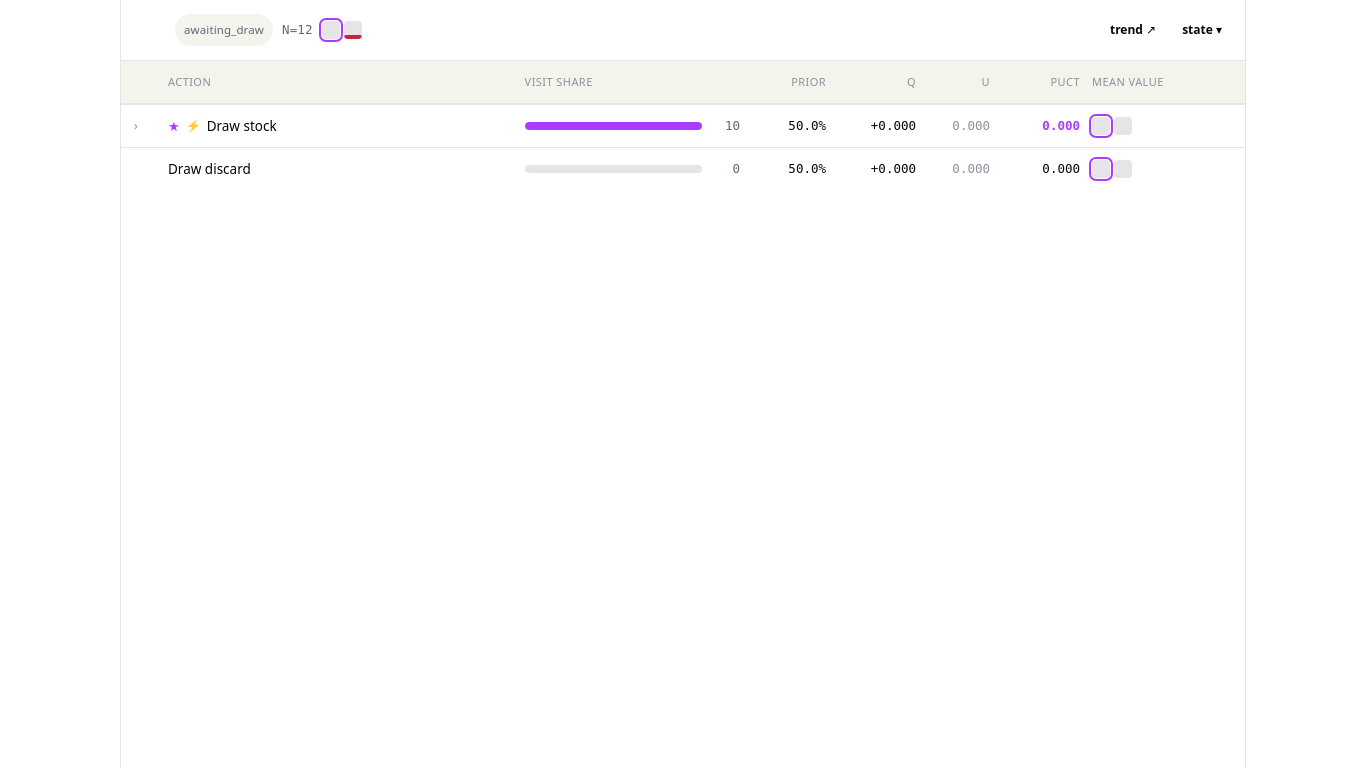
Scenario: NodeBlock / edge row expand-collapse › reveals the chance child on the first click and hides it again on the second (happy path — the reported bug)
The image size is (1366, 768).
Check: the text "✲ chance — unresolved reveal" is not shown
Click the button "› ★ ⚡ Draw stock 10 50.0% +0.000 0.000 0.000" at (683, 126), box [121,104,1245,147]
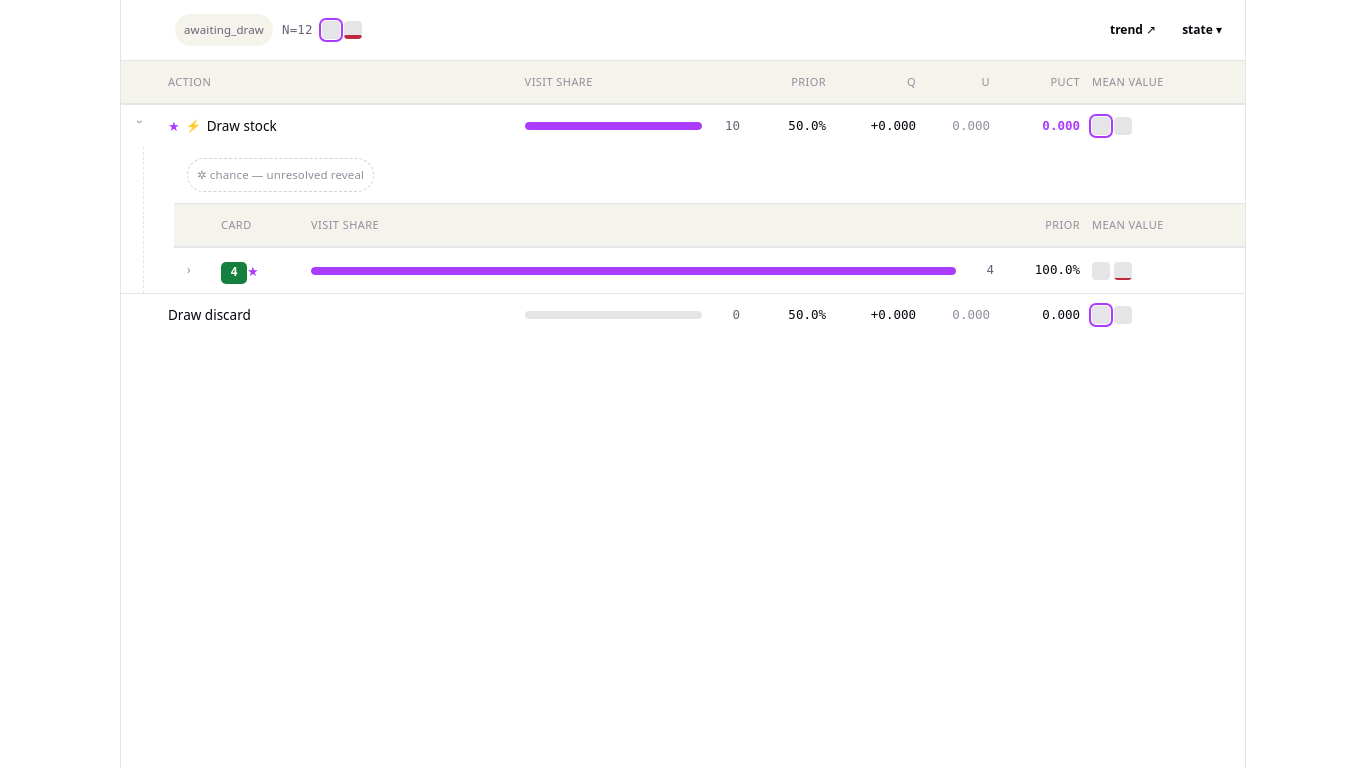
Check: the text "✲ chance — unresolved reveal" is shown, box [187,158,374,192]
Click the button "› ★ ⚡ Draw stock 10 50.0% +0.000 0.000 0.000" at (683, 126), box [121,104,1245,147]
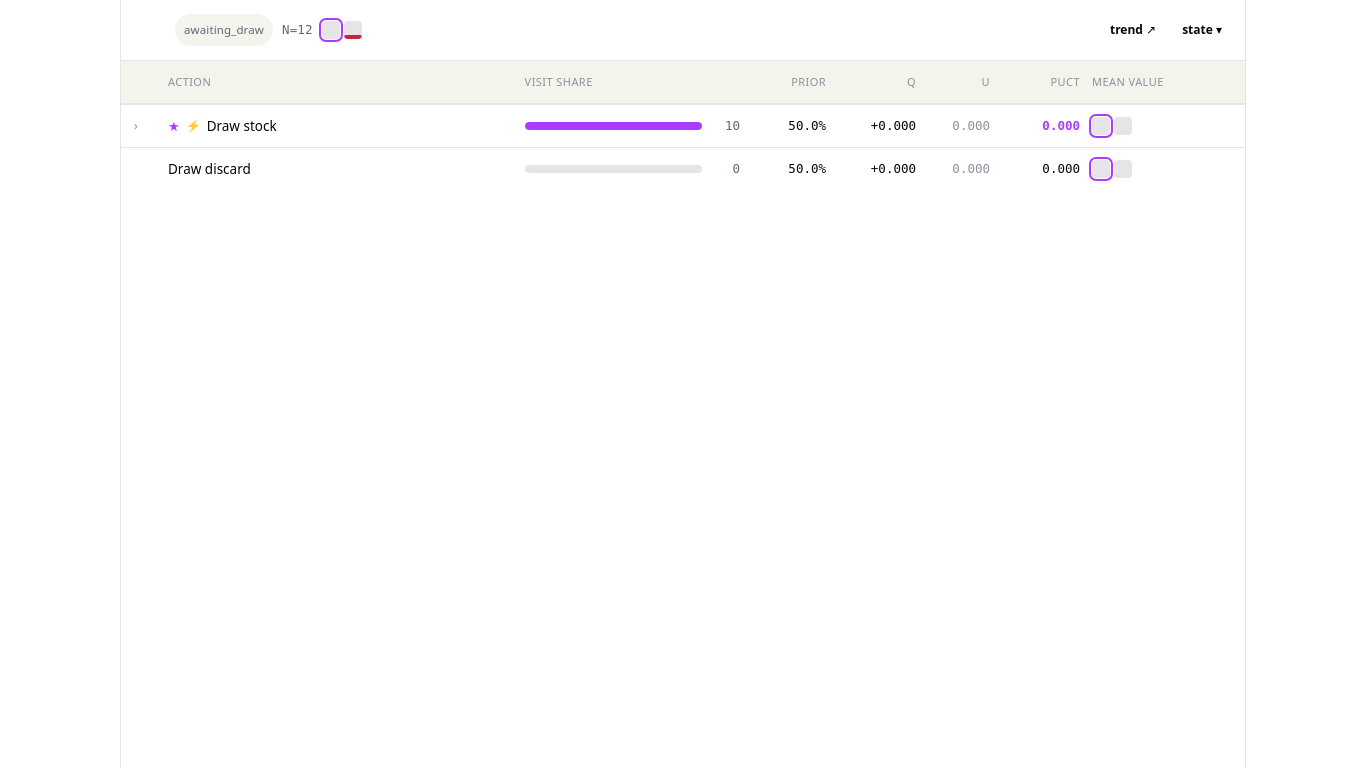
Check: the text "✲ chance — unresolved reveal" is gone
